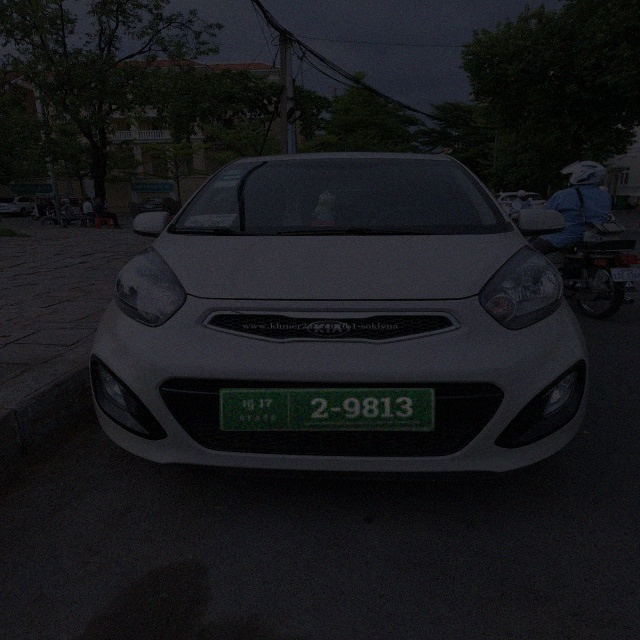Plate Number: (220, 388, 435, 432)
